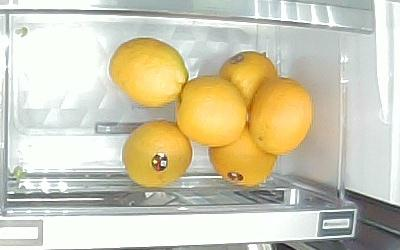orange: (109, 37, 188, 109), (248, 76, 314, 154), (177, 76, 248, 148), (122, 119, 193, 187), (208, 121, 278, 189), (219, 51, 278, 110)
